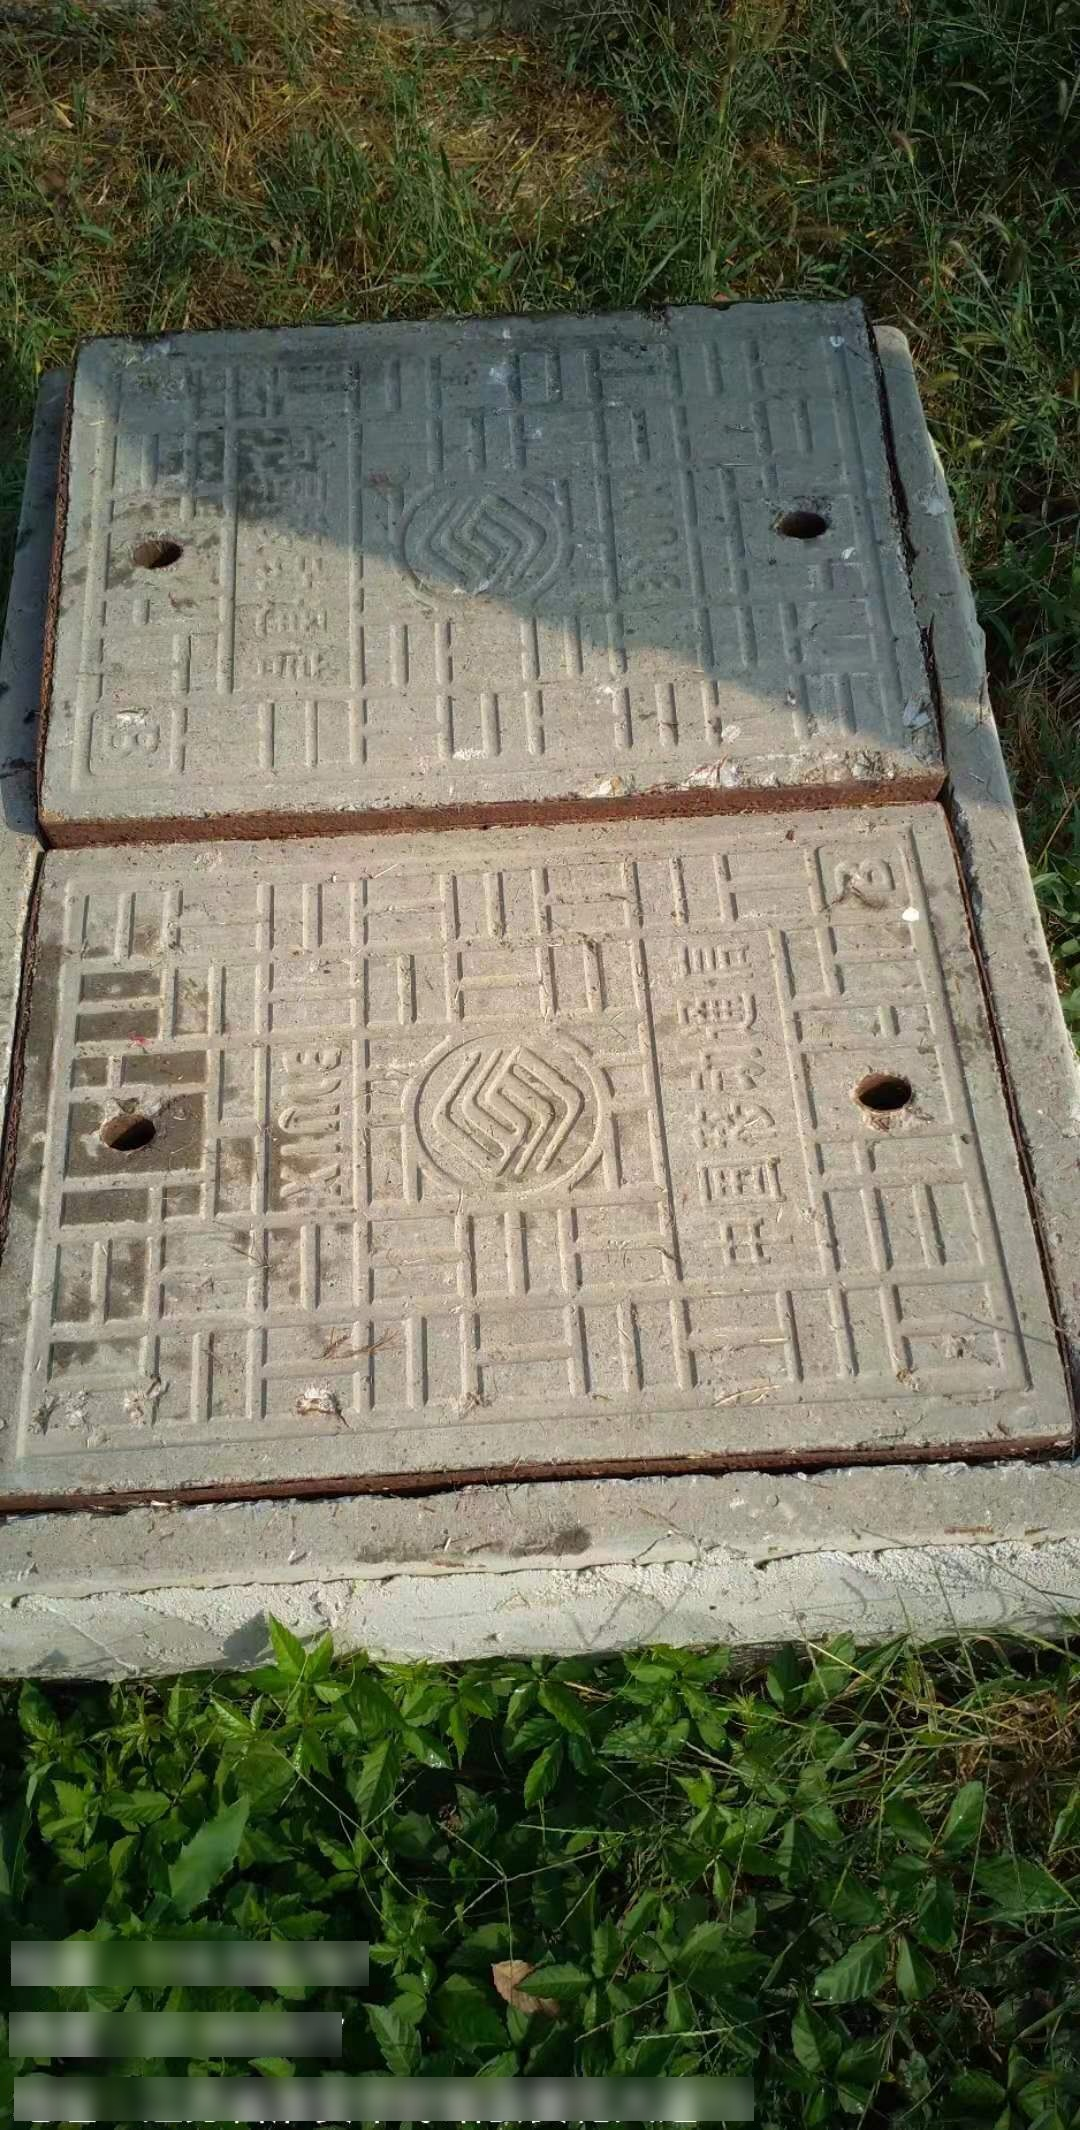uncovered: (1, 295, 1080, 1667)
